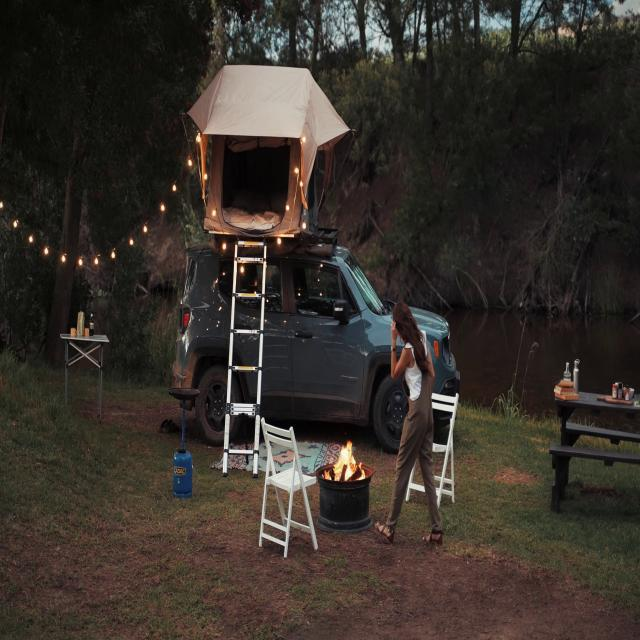Fire: (331, 434, 360, 484)
